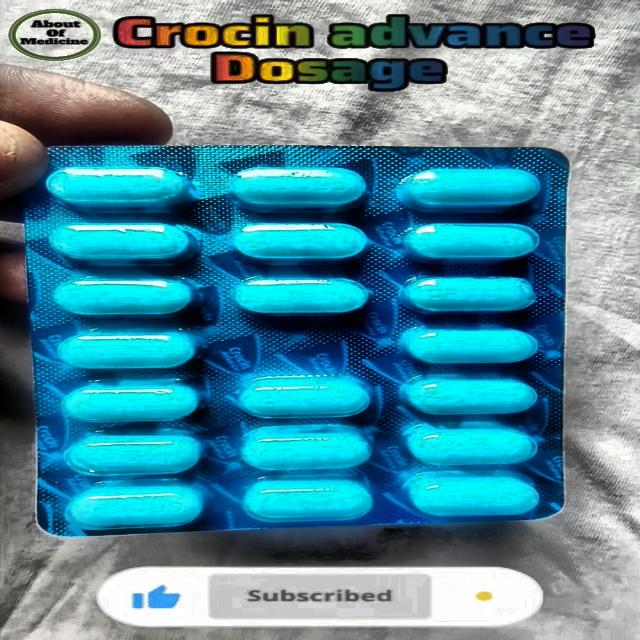Crocin: (50, 150, 548, 515), (97, 13, 599, 88)
